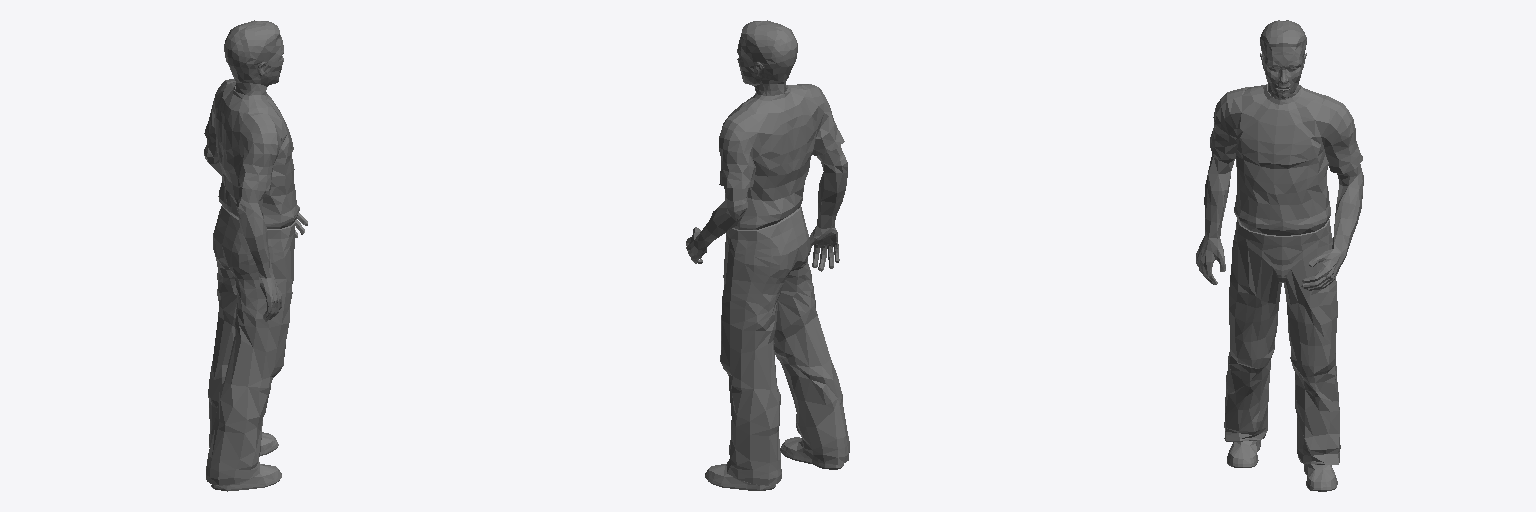
robot.urdf — man:
<?xml version="1.0" ?>
<robot name="man">

  <!-- 行人 -->
  <link name="man">
    <visual>
      <origin xyz="0 0 0" rpy="1.57079632679 0 1.57079632679"/>
      <geometry>
        <mesh filename="man.dae" scale="0.5 0.5 0.5"/>
      </geometry>
       <material name="man">
        <color rgba="0.5 0.5 0.5 1"/> <!-- 灰色 -->
      </material>
    </visual>
    <collision>
      <origin xyz="0 0 0" rpy="1.57079632679 0 1.57079632679"/>
      <geometry>
        <mesh filename="man.dae" scale="0.5 0.5 0.5"/>
      </geometry>
    </collision>
    <inertial>
      <mass value="0"/>
      <inertia ixx="0" ixy="0" ixz="0" iyy="0" iyz="0" izz="0"/>
    </inertial>
  </link>

</robot>

--- Render facts (derived) ---
3 views of the same robot in one strip: view 1: azimuth 30°, elevation 25°; view 2: azimuth 150°, elevation 25°; view 3: azimuth 270°, elevation 25° (orthographic).
Robot: man — 1 links, 0 joints (none); root link man; default pose: every joint at zero.
Visible links, largest first — view 1: man; view 2: man; view 3: man.
Link boxes in pixels (left/top/right/bottom): man: left=204, top=20, right=307, bottom=491; man: left=686, top=20, right=849, bottom=490; man: left=1196, top=20, right=1363, bottom=491.
Size in the robot's own frame: 0.2752 by 0.3107 by 0.918 metres.
Meshes: 1 distinct files referenced, 1 mesh visuals loaded (1 Collada DAE).
